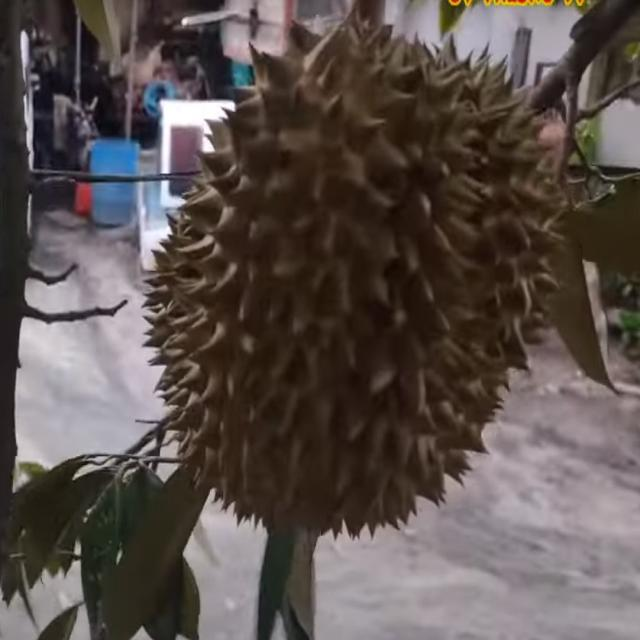mature: (122, 15, 570, 542)
